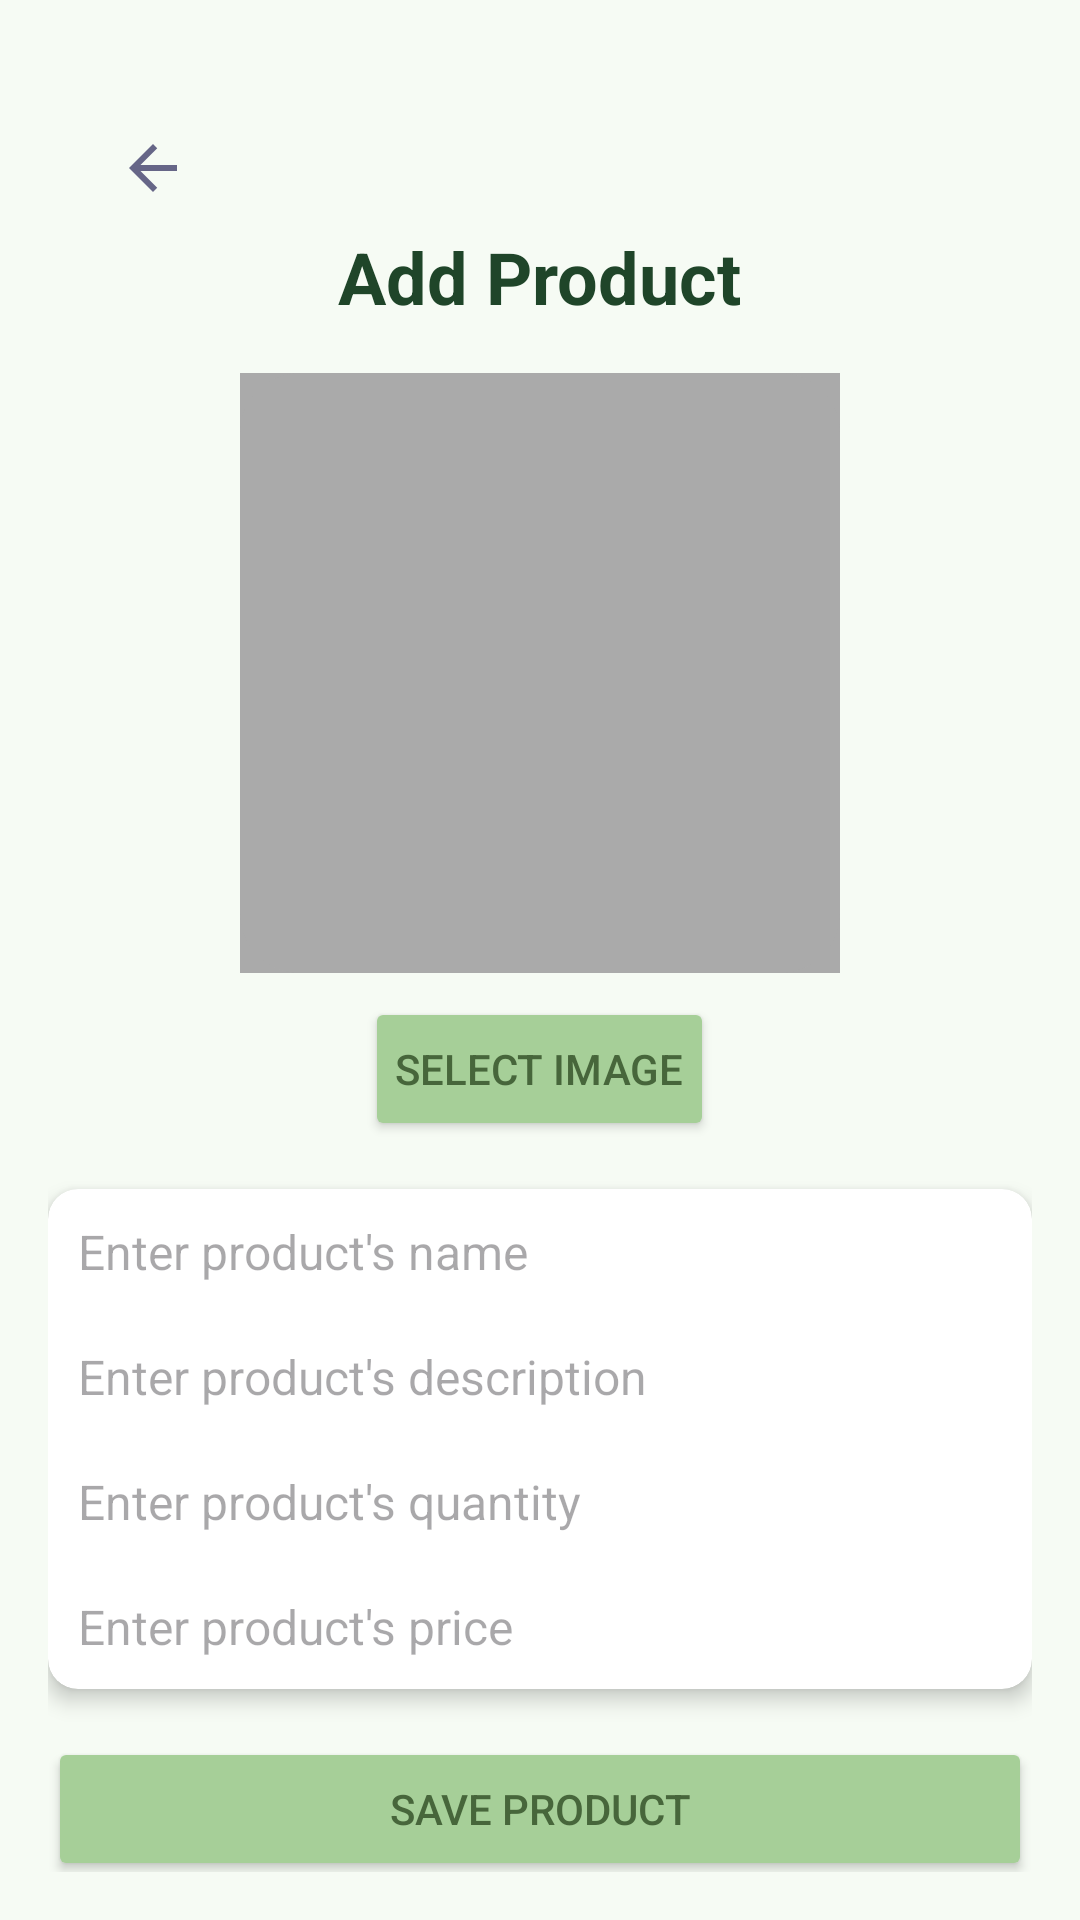

Where icons sit on this 1080px×1920px app screen, as (x1, y1, x2, y2):
Back: (129, 144, 177, 192)
